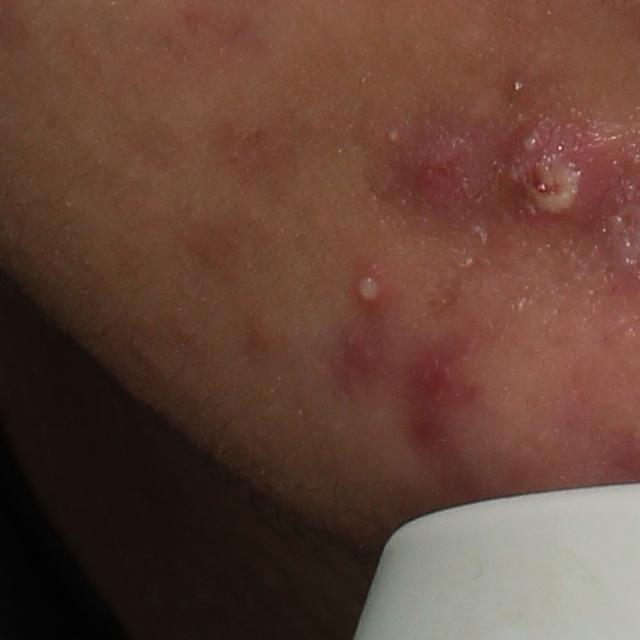comedo: (461, 253, 480, 270)
nodule: (494, 113, 639, 238)
papule: (398, 135, 483, 224)
pustule: (350, 268, 388, 321)
